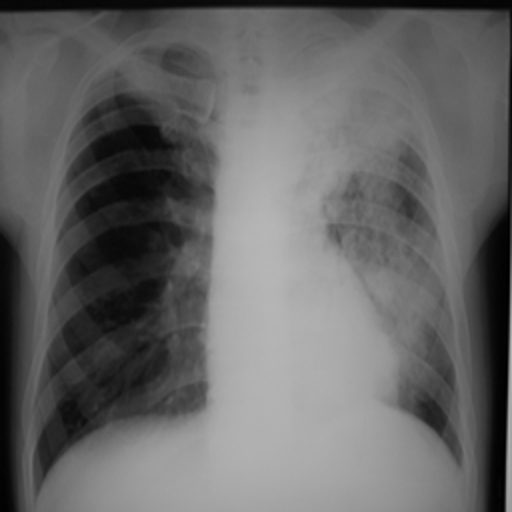TB: (302, 38, 414, 213), (363, 253, 461, 345)
